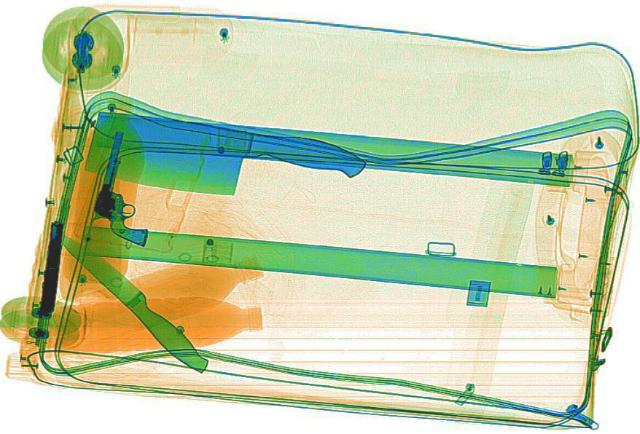Gun: (80, 128, 172, 240), (31, 218, 69, 313)
Knife: (76, 107, 372, 212), (42, 220, 220, 375)
